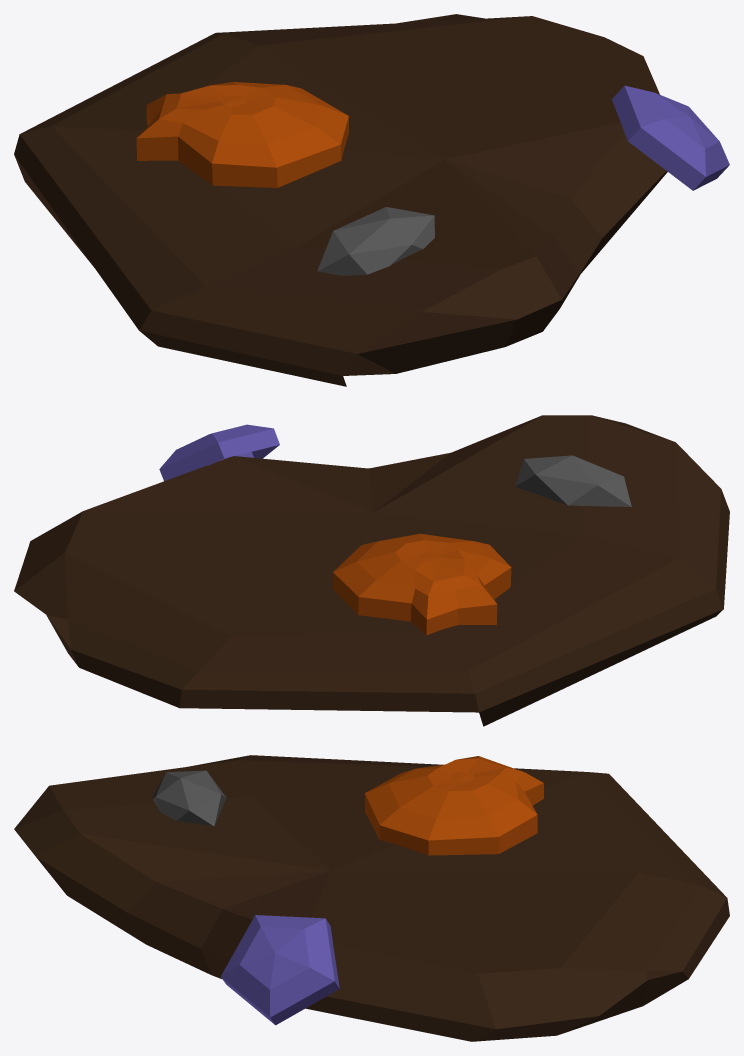
Rendered from SSJ_dirtyFloor1-B.fbx.
3 renders of one model, top to bottom at view 1: azimuth 30°, elevation 25°; view 2: azimuth 150°, elevation 25°; view 3: azimuth 270°, elevation 25°, orthographic. The views are drawn at different scales.
Parts seen in each view (by area): view 1: Rock2.002; view 2: Rock2.002; view 3: Rock2.002.
Part boxes in pixels (x1,y1,x2,y2): Rock2.002: [14, 14, 729, 386]; Rock2.002: [14, 415, 729, 726]; Rock2.002: [14, 755, 729, 1041].
Bounding box in the file's own units: 284 × 52.67 × 308.
